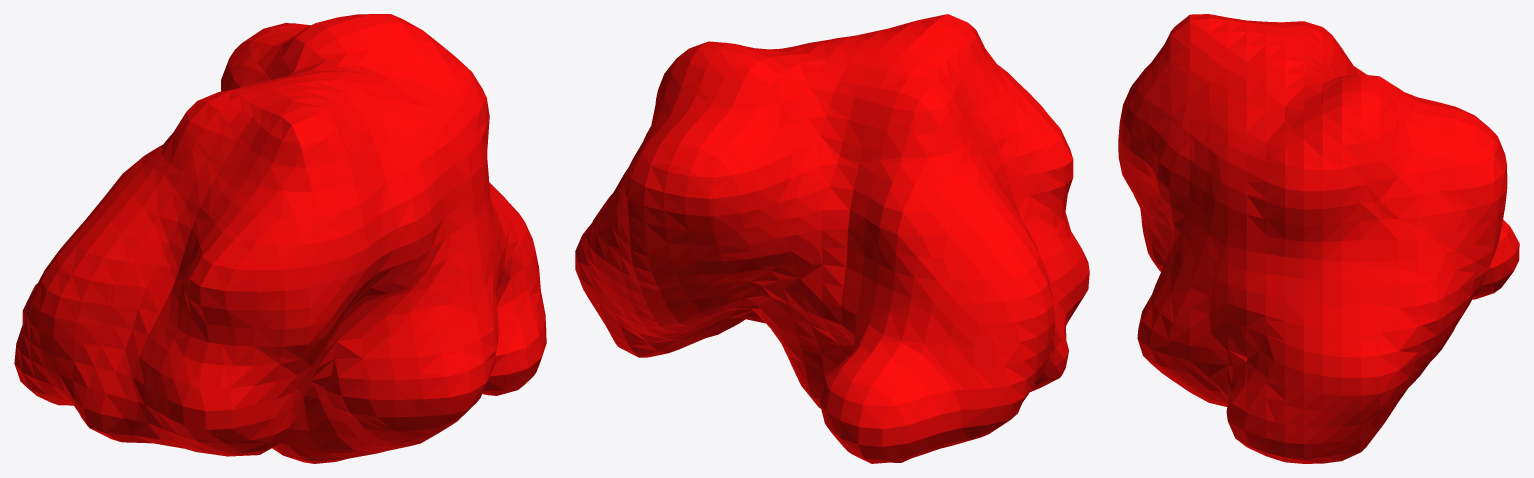
Rendered from yggL_coarse.dae.
3 renders of one model, left to right at view 1: azimuth 30°, elevation 25°; view 2: azimuth 150°, elevation 25°; view 3: azimuth 270°, elevation 25°, orthographic. The views are drawn at different scales.
Visible parts, largest first — view 1: yggL; view 2: yggL; view 3: yggL.
Boxes of the visible parts, left/top/right/bottom form: yggL: left=14, top=14, right=546, bottom=463; yggL: left=575, top=14, right=1089, bottom=463; yggL: left=1118, top=14, right=1519, bottom=463.
Size of the model in its own units: 46.91 by 36.43 by 36.68.
